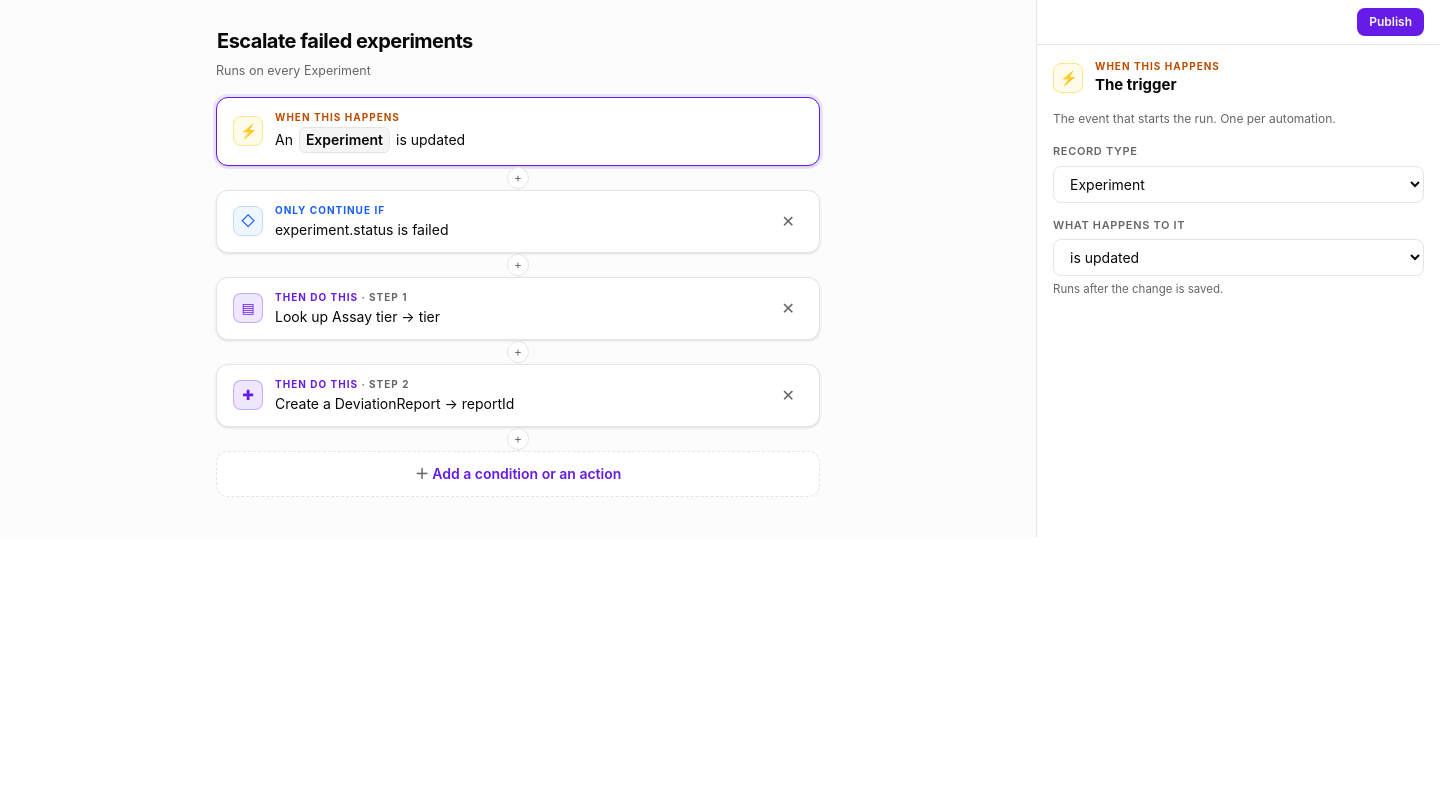
Test case: AutomationBuilder › adds a step where the + was pressed, not at the end
The rung above step 2.
Click the button named "add a condition or an action here" at (518, 439), box [507,428,529,450]
(page scrolled)
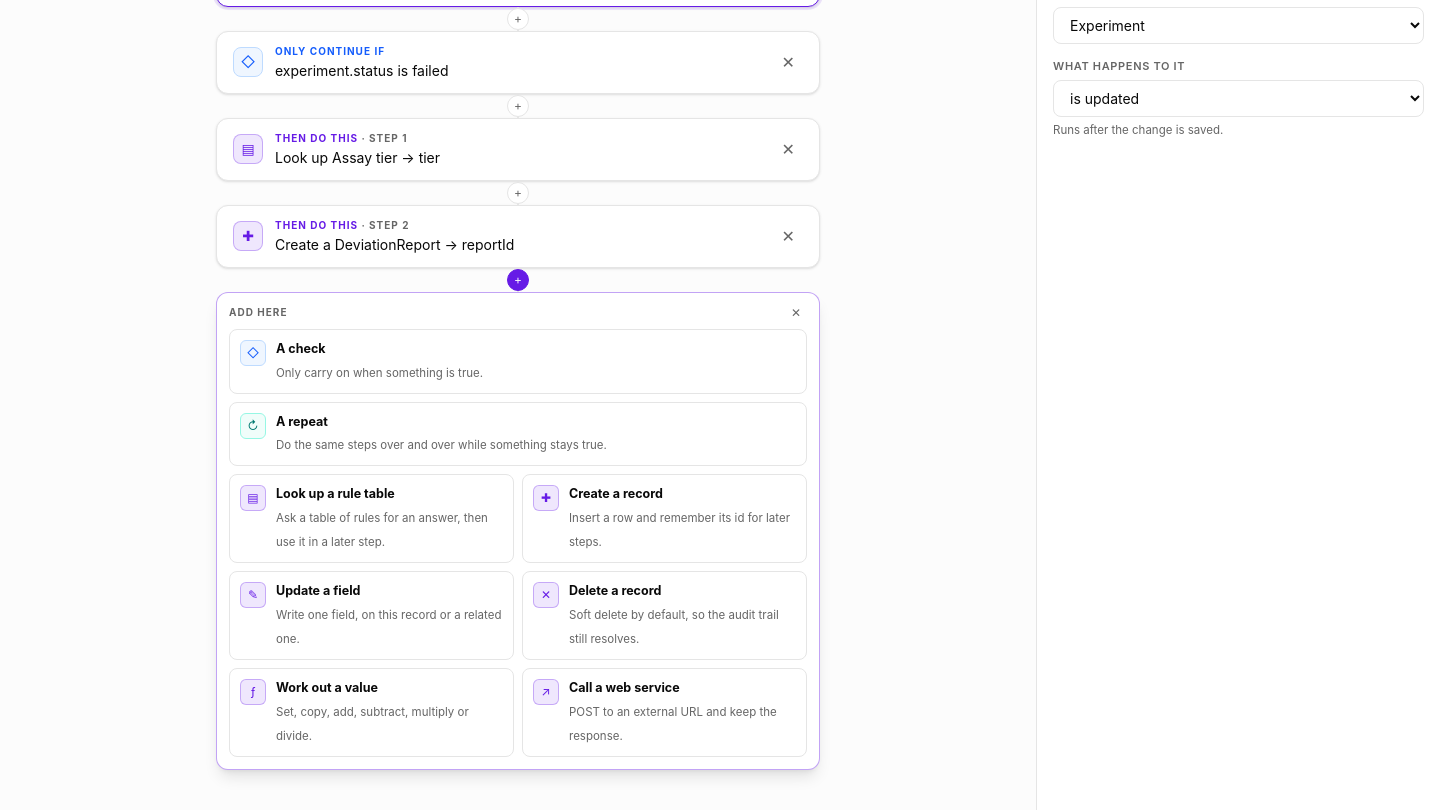
Click the menu item "Update a field" at (372, 615), box [229,571,514,660]
(page scrolled)
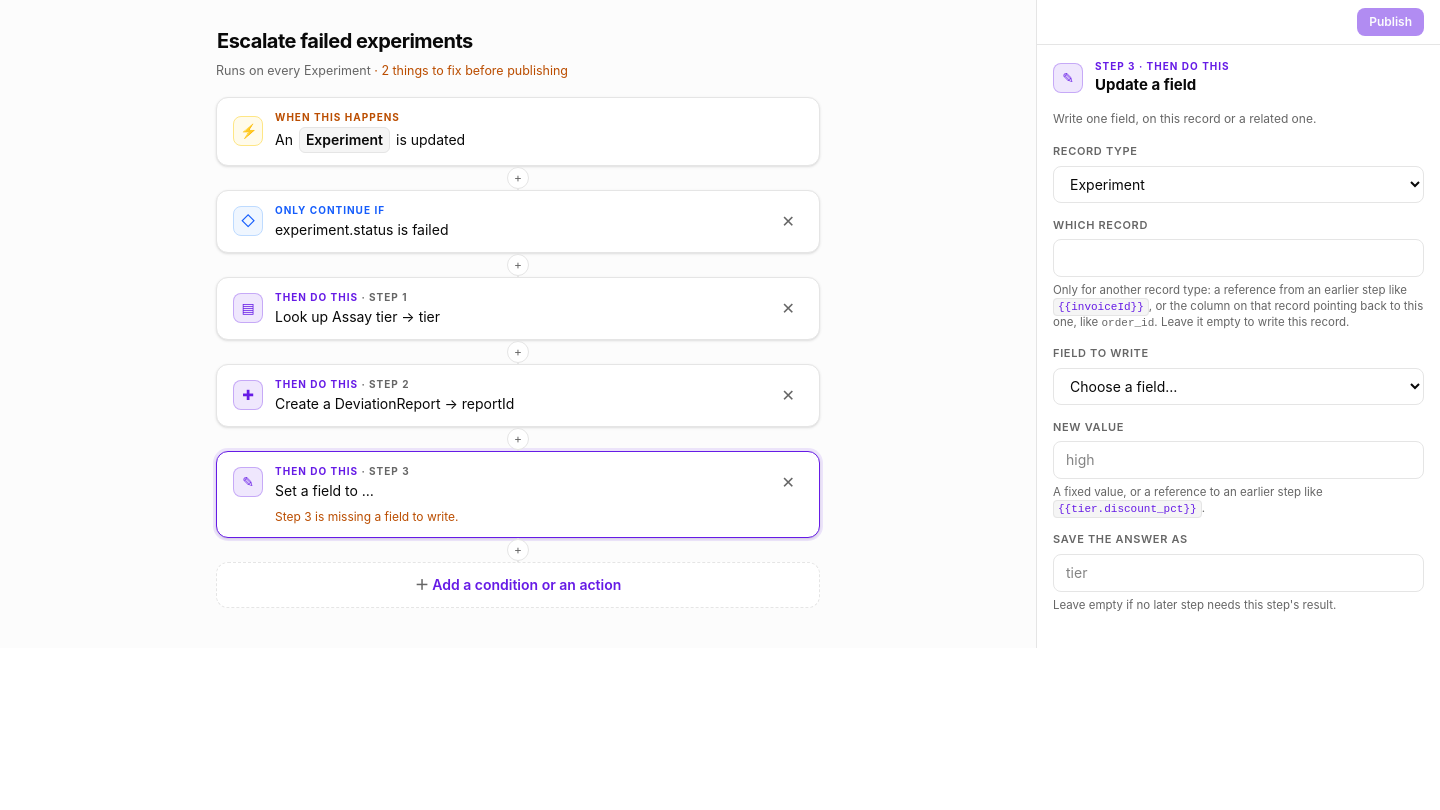
Now the text "· step 3" is shown, box [358,465,410,477]
Now the heading "Update a field" is shown, box [1095,75,1196,94]
